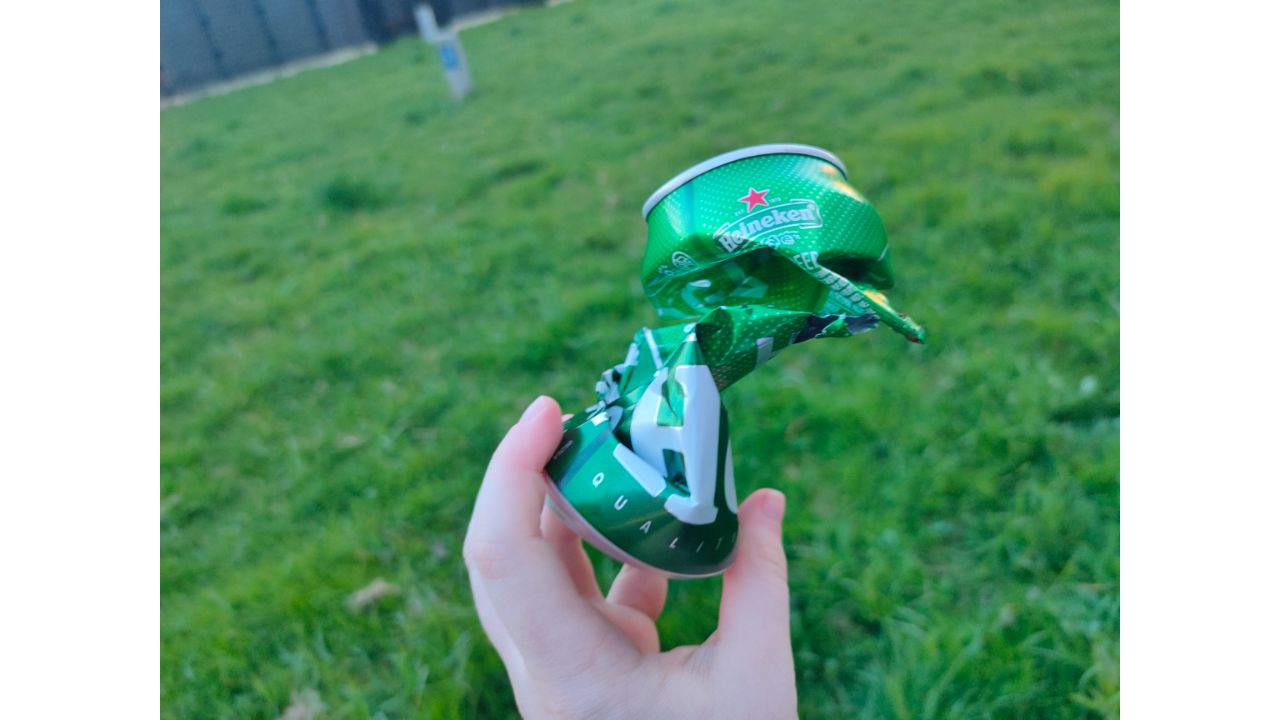Can: (540, 145, 932, 578)
